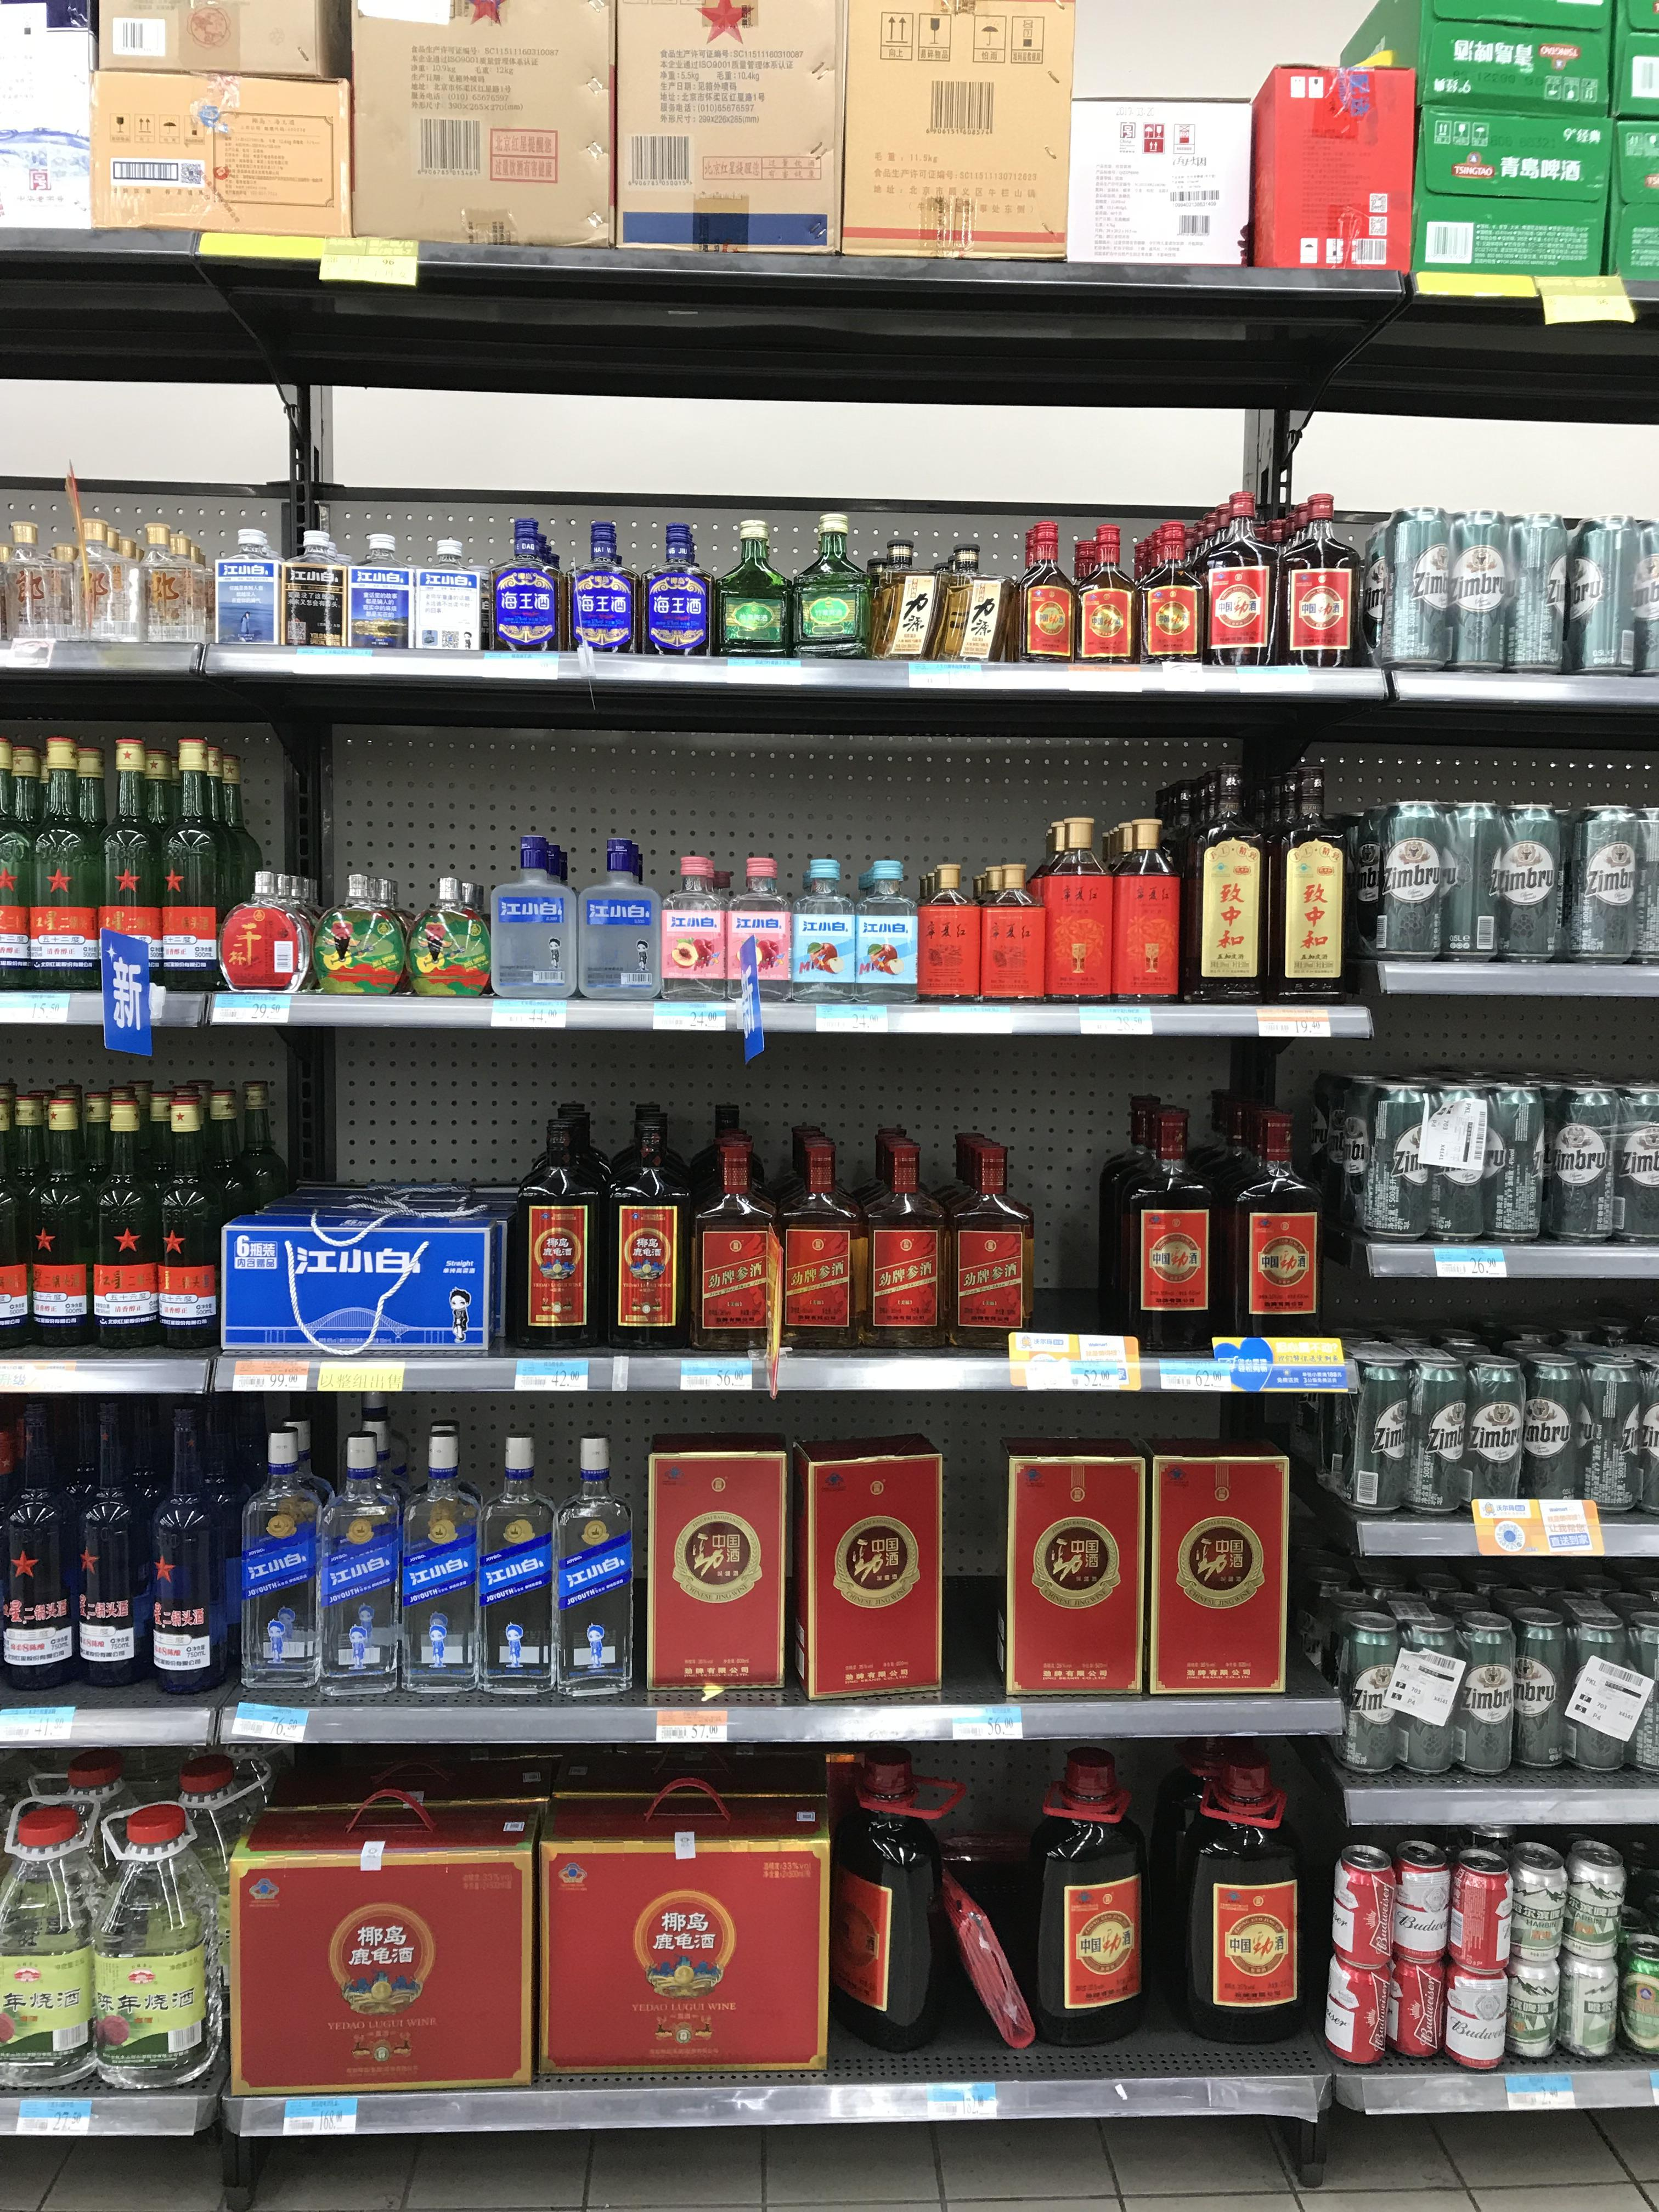bag: (319, 1442, 401, 1693), (1340, 1083, 1455, 1251), (1455, 1082, 1542, 1247)
bottle: (833, 1743, 950, 2050), (1175, 1761, 1298, 2041), (1032, 1752, 1138, 2043), (0, 1813, 98, 2088), (143, 1404, 232, 1696), (70, 1399, 152, 1691), (1117, 1109, 1211, 1360), (232, 1425, 317, 1696), (0, 1406, 78, 1698), (511, 1104, 601, 1350), (399, 1432, 481, 1693), (1227, 1109, 1317, 1343), (477, 1437, 558, 1696), (556, 1435, 636, 1693), (685, 1123, 774, 1353), (603, 1108, 687, 1352), (772, 1130, 861, 1355), (87, 1101, 162, 1353), (945, 1134, 1030, 1353), (1190, 763, 1269, 1001), (1324, 1829, 1403, 2066), (1436, 1827, 1514, 2064), (152, 1094, 223, 1352), (33, 737, 105, 991), (863, 1137, 945, 1359), (1373, 1832, 1452, 2057), (162, 737, 230, 991), (28, 1092, 94, 1350), (96, 737, 164, 988), (186, 742, 254, 991), (1486, 1834, 1561, 2059), (1546, 1860, 1619, 2067), (1554, 1604, 1635, 1784), (1361, 798, 1443, 968), (1033, 824, 1110, 1005), (1499, 796, 1574, 979), (1436, 1611, 1516, 1782), (491, 833, 573, 998), (1340, 1609, 1419, 1780), (1554, 514, 1638, 671), (1110, 822, 1182, 1005), (575, 833, 655, 995), (1380, 1609, 1455, 1782), (1427, 798, 1502, 968), (1281, 488, 1352, 665), (1377, 505, 1453, 669), (225, 873, 326, 993), (1499, 1609, 1570, 1778), (1495, 509, 1567, 669), (1206, 489, 1269, 665), (1446, 503, 1511, 669), (317, 881, 410, 996), (410, 880, 495, 1003), (795, 516, 863, 657), (491, 516, 558, 655), (727, 857, 795, 991), (0, 516, 66, 650), (647, 509, 706, 657), (410, 540, 488, 651), (718, 519, 779, 658), (572, 514, 629, 658), (871, 533, 938, 658), (1073, 529, 1134, 665), (1012, 524, 1072, 662), (664, 859, 725, 991), (1140, 528, 1199, 664), (941, 542, 1006, 665), (289, 529, 356, 646), (350, 535, 416, 650), (85, 529, 143, 641)
box: (843, 3, 1075, 261), (643, 1430, 791, 1696), (1004, 1430, 1143, 1693), (1140, 1425, 1279, 1688), (1070, 98, 1262, 266), (978, 866, 1044, 1000), (908, 867, 971, 1000), (852, 866, 913, 993)
bucket: (1276, 768, 1349, 991)
jar: (791, 1420, 938, 1707), (91, 1808, 214, 2087), (1319, 1345, 1412, 1519), (1537, 1085, 1617, 1247), (1574, 1353, 1652, 1517), (1396, 1357, 1474, 1517), (204, 517, 295, 648), (1565, 806, 1642, 960), (1507, 1360, 1582, 1514), (1460, 1359, 1525, 1510), (1603, 1087, 1657, 1244), (138, 533, 211, 644), (795, 860, 854, 993), (1615, 1928, 1657, 2059)
others: (230, 1787, 545, 2101), (538, 1794, 831, 2088), (331, 5, 629, 251), (617, 2, 842, 246), (89, 31, 338, 223), (213, 1183, 486, 1350), (1410, 89, 1608, 270), (1249, 63, 1419, 263), (0, 0, 113, 228), (113, 0, 380, 91)
